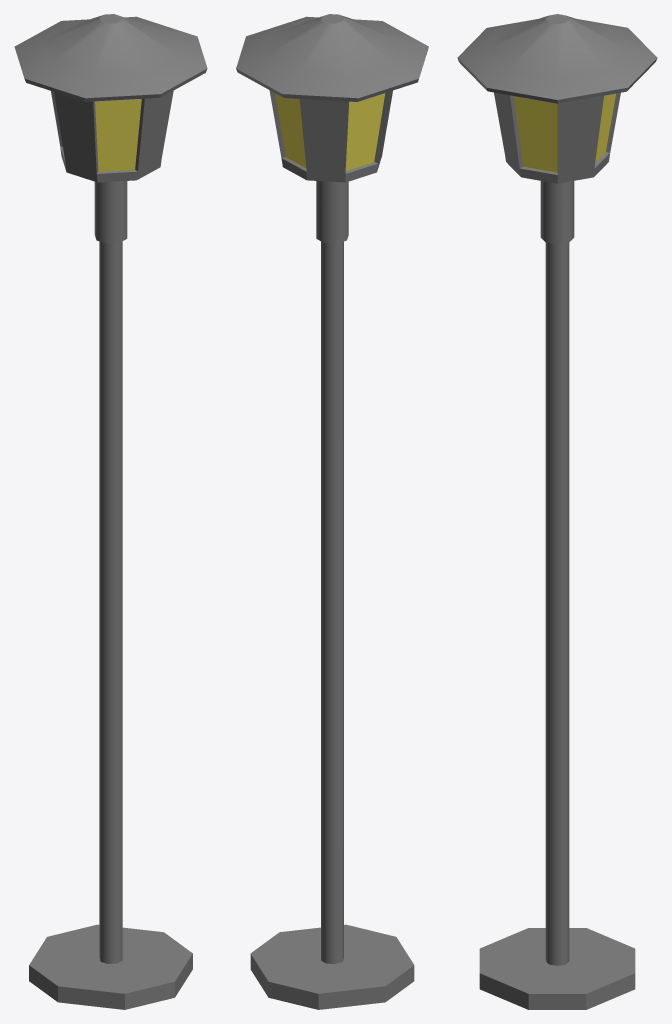
The model's file is LampPost.fbx.
3 views of the same model, side by side, from view 1: azimuth 30°, elevation 25°; view 2: azimuth 150°, elevation 25°; view 3: azimuth 270°, elevation 25° (orthographic).
Visible parts, largest first — view 1: LampPost; view 2: LampPost; view 3: LampPost.
Boxes of the visible parts, x1,y1,x2,y2 form: LampPost: (14,14,207,1009); LampPost: (236,14,428,1009); LampPost: (457,14,657,1009).
Bounding box in the file's own units: 0.4491 × 2.37 × 0.4491.
